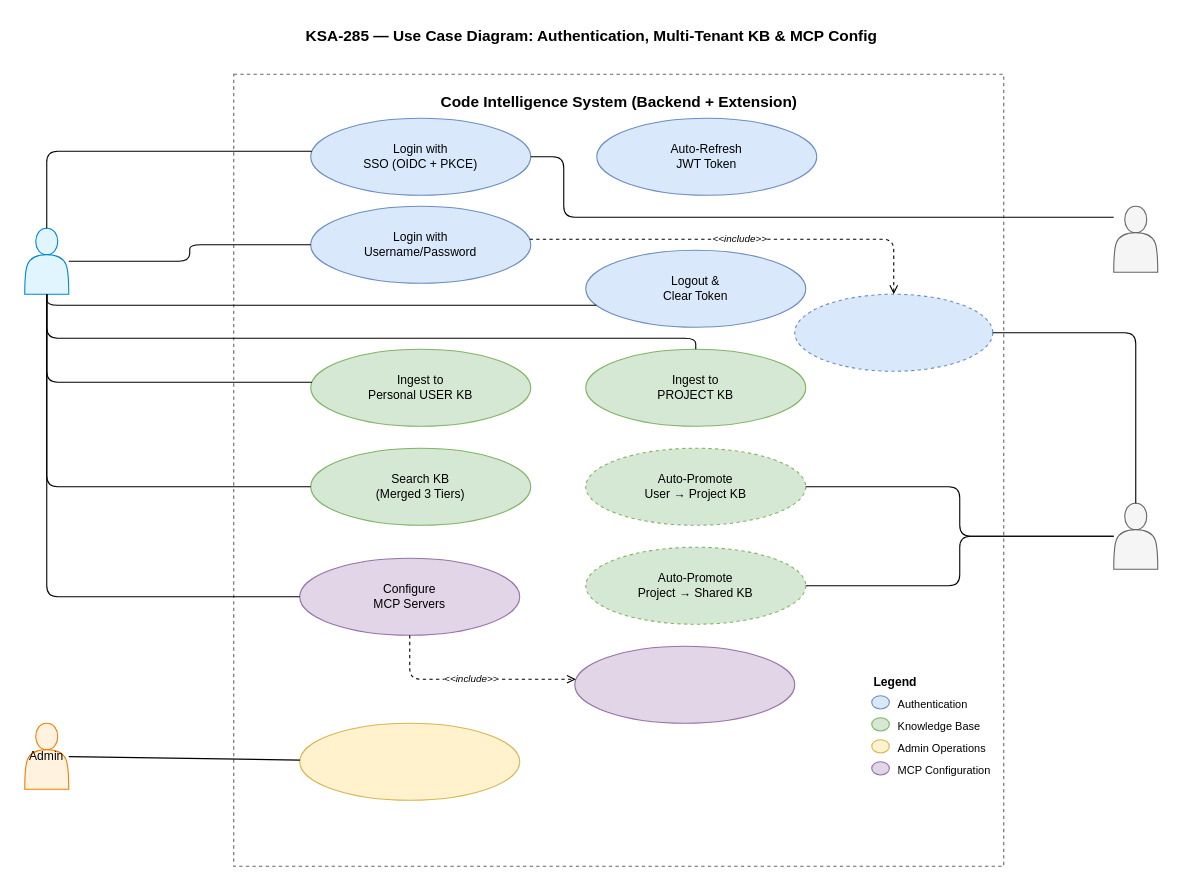
This 1178x886 diagram has some shape labels left out. Here are the shapes that lost their labels. From the top down, the box of each, then its label:
(1113, 205, 1158, 272): Identity Provider
(24, 227, 69, 294): Developer
(794, 293, 993, 371): Validate Token & Authorize
(1113, 502, 1158, 569): Backend Server
(574, 645, 795, 723): Test MCP Connection
(299, 722, 520, 800): Manage SHARED KB
